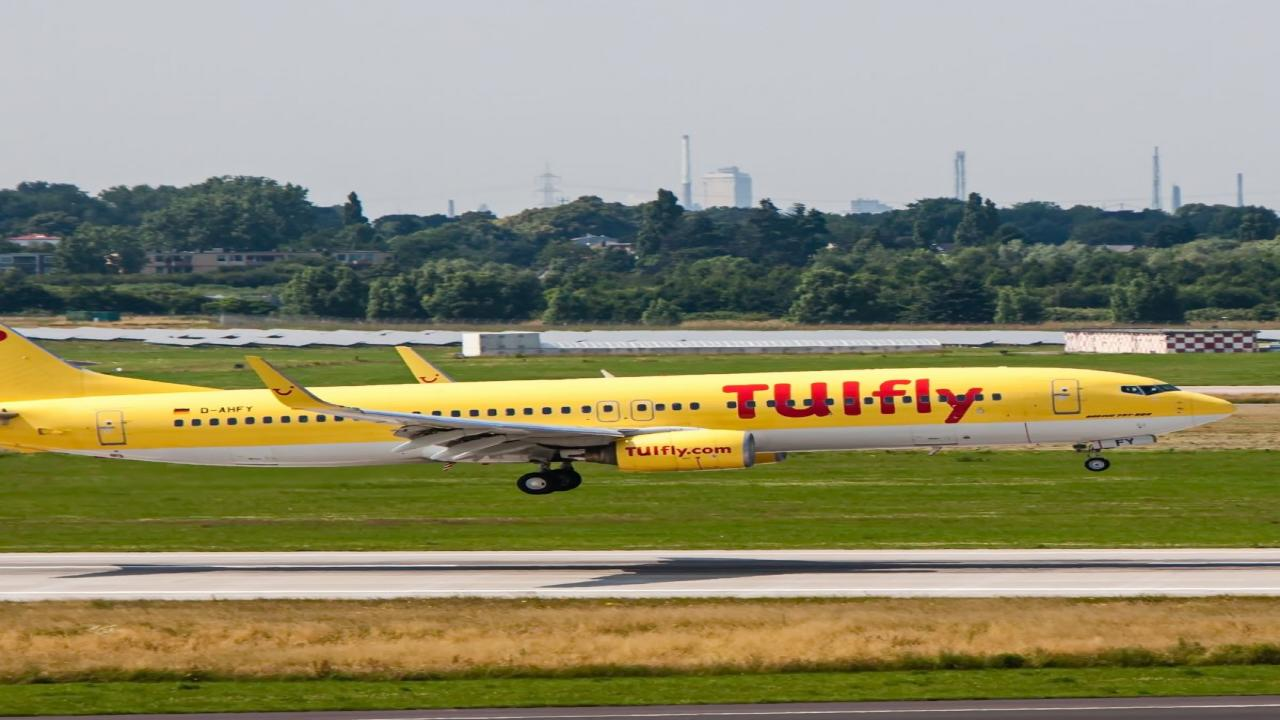Airplane: (0, 317, 1249, 505)
